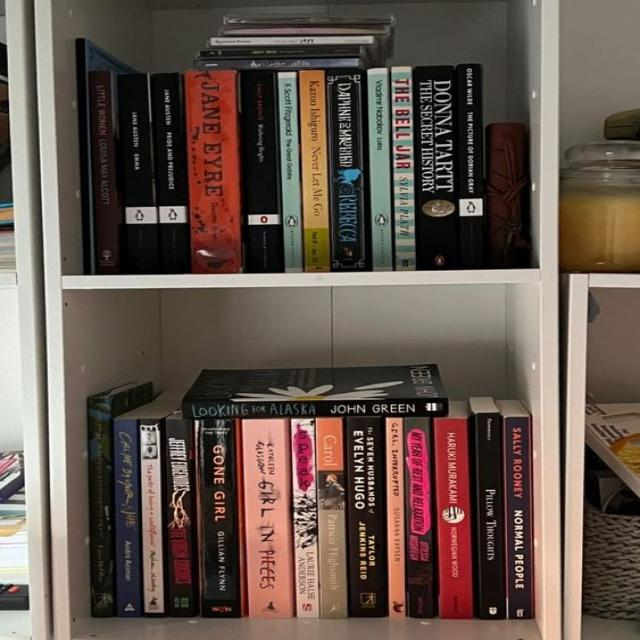book: (185, 70, 243, 274), (242, 420, 293, 617), (239, 72, 283, 273), (197, 419, 240, 618), (433, 418, 474, 619), (418, 65, 458, 270), (118, 73, 158, 274), (346, 418, 386, 617), (151, 72, 189, 274), (328, 69, 365, 271), (316, 418, 349, 619), (299, 70, 331, 272), (89, 69, 120, 274), (475, 411, 505, 619), (86, 396, 114, 618), (405, 418, 435, 618), (504, 415, 533, 619), (183, 397, 450, 418), (166, 418, 194, 616), (457, 64, 484, 269), (291, 419, 318, 618), (114, 419, 141, 616), (278, 72, 304, 272), (368, 68, 393, 271), (392, 66, 416, 271), (141, 418, 164, 617), (386, 418, 405, 616)
